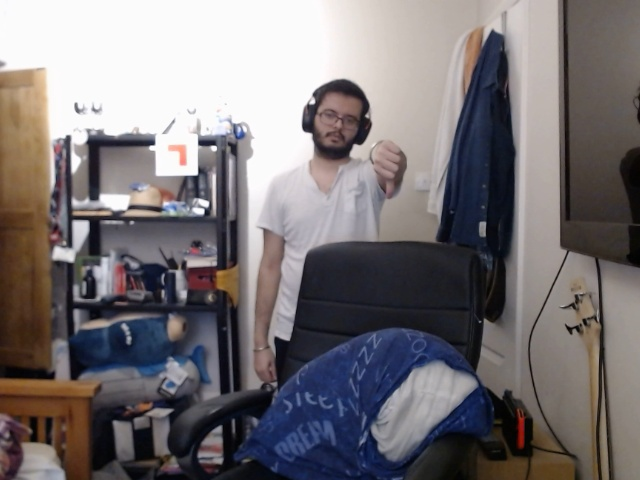Thumbs down: (359, 137, 414, 203)
